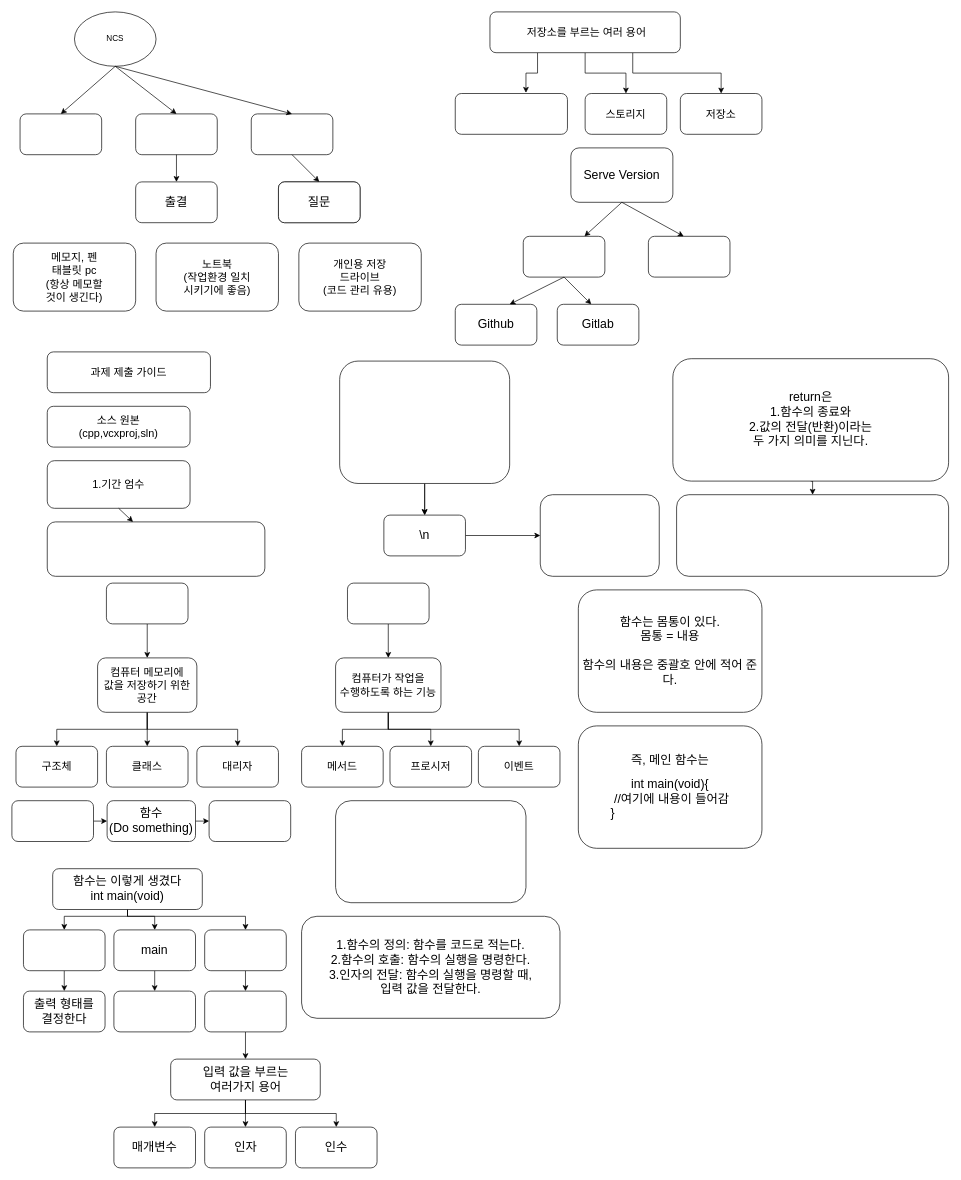
This 961x1180 diagram has some shape labels left out. Here are the shapes that lost their labels. From the top down, the centre of each, then its label:
At (511,113): "리포지토리(Git)".
At (60,134): "지식".
At (176,134): "습관".
At (292,134): "태도".
At (564,256): "Git".
At (689,256): "SVN".
At (424,421): "특수문자 중에서 (\)와 조합해서 쓰는 특수문자를 이스케이프 시퀸스라고 한다.".
At (156,548): "1-1. 기한 내에 미완성한 경우라도 그냥 제출할 것, 미완성 제출".
At (599,535): "개행 문자 줄바꿈 문자".
At (812,535): "return 0; 이런 것을 return문이라고 한다.".
At (147,603): "변수".
At (388,603): "함수".
At (52,821): "입력(Input)".
At (249,821): "출력(Output)".
At (430,851): "프로그램이란? 정해진 순서에 의해서 진행되는 함수의 호출을 말하는 것".
At (64,950): "int".
At (245,950): "(void)".
At (154,1011): "함수 이름".
At (245,1011): "입력 형태를 결정한다".
